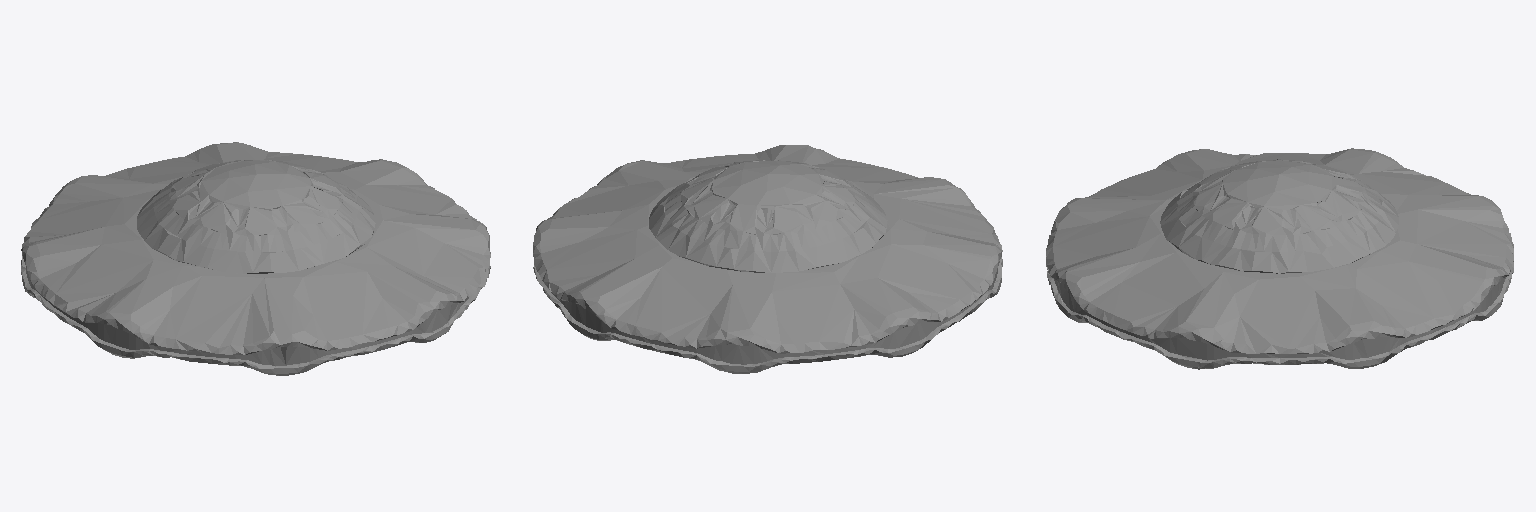
File: frame_091.obj
3 renders of one model, left to right at view 1: azimuth 30°, elevation 25°; view 2: azimuth 150°, elevation 25°; view 3: azimuth 270°, elevation 25°, orthographic.
Visible parts, largest first — view 1: 13884_UFO_Saucer_v1_l2; view 2: 13884_UFO_Saucer_v1_l2; view 3: 13884_UFO_Saucer_v1_l2.
Part boxes in pixels (bbox=[...]): 13884_UFO_Saucer_v1_l2: bbox=[21, 142, 490, 375]; 13884_UFO_Saucer_v1_l2: bbox=[533, 145, 1002, 373]; 13884_UFO_Saucer_v1_l2: bbox=[1046, 148, 1513, 369].
Size of the model in its own units: 12.69 by 4.88 by 12.7.